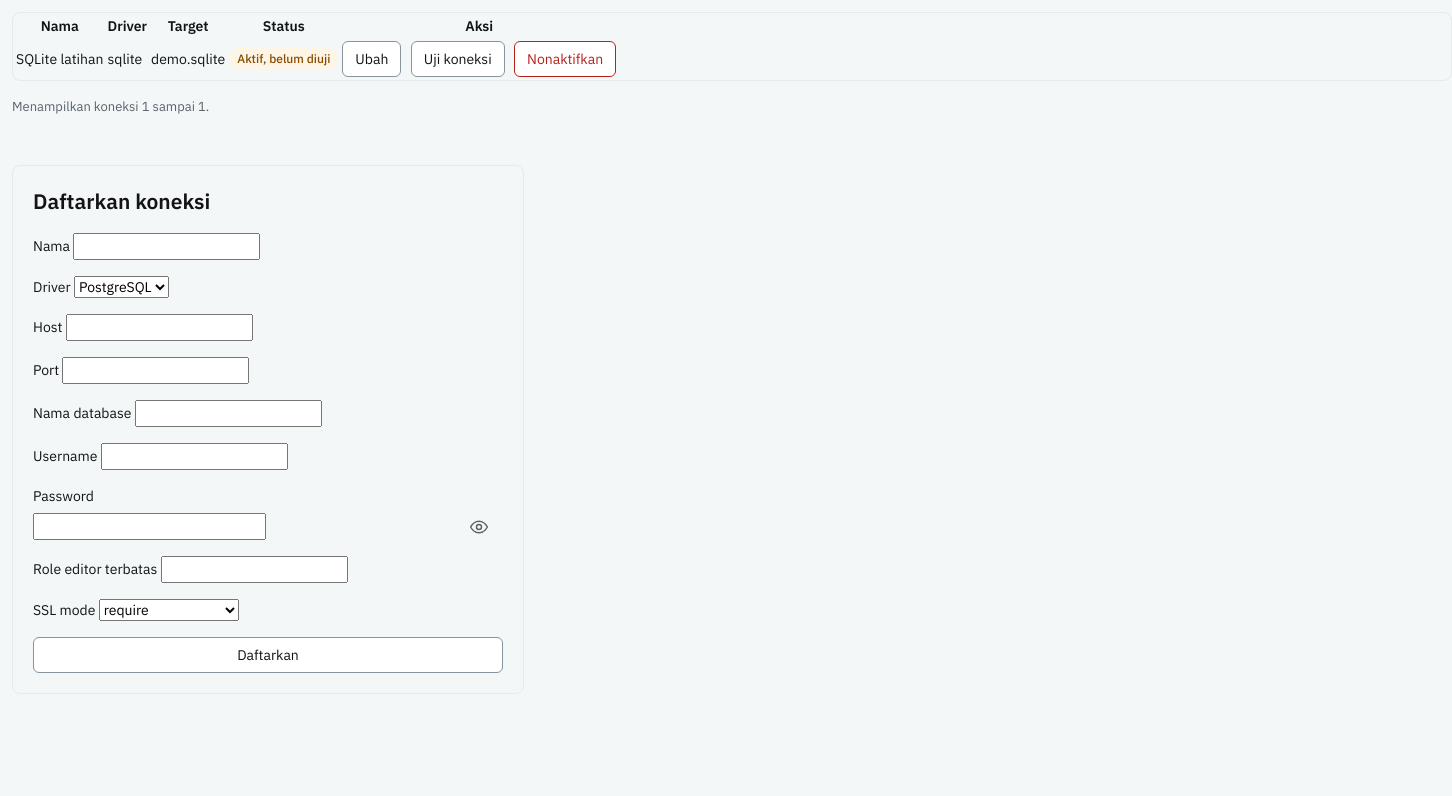
Test: ConnectionsPage › shows a revision conflict instead of overwriting
The image size is (1452, 796).
Expected: the text "SQLite latihan" is shown, x1=15 y1=40 x2=104 y2=78
Click the button "Ubah" at coordinates (372, 59), box x1=342 y1=41 x2=401 y2=77
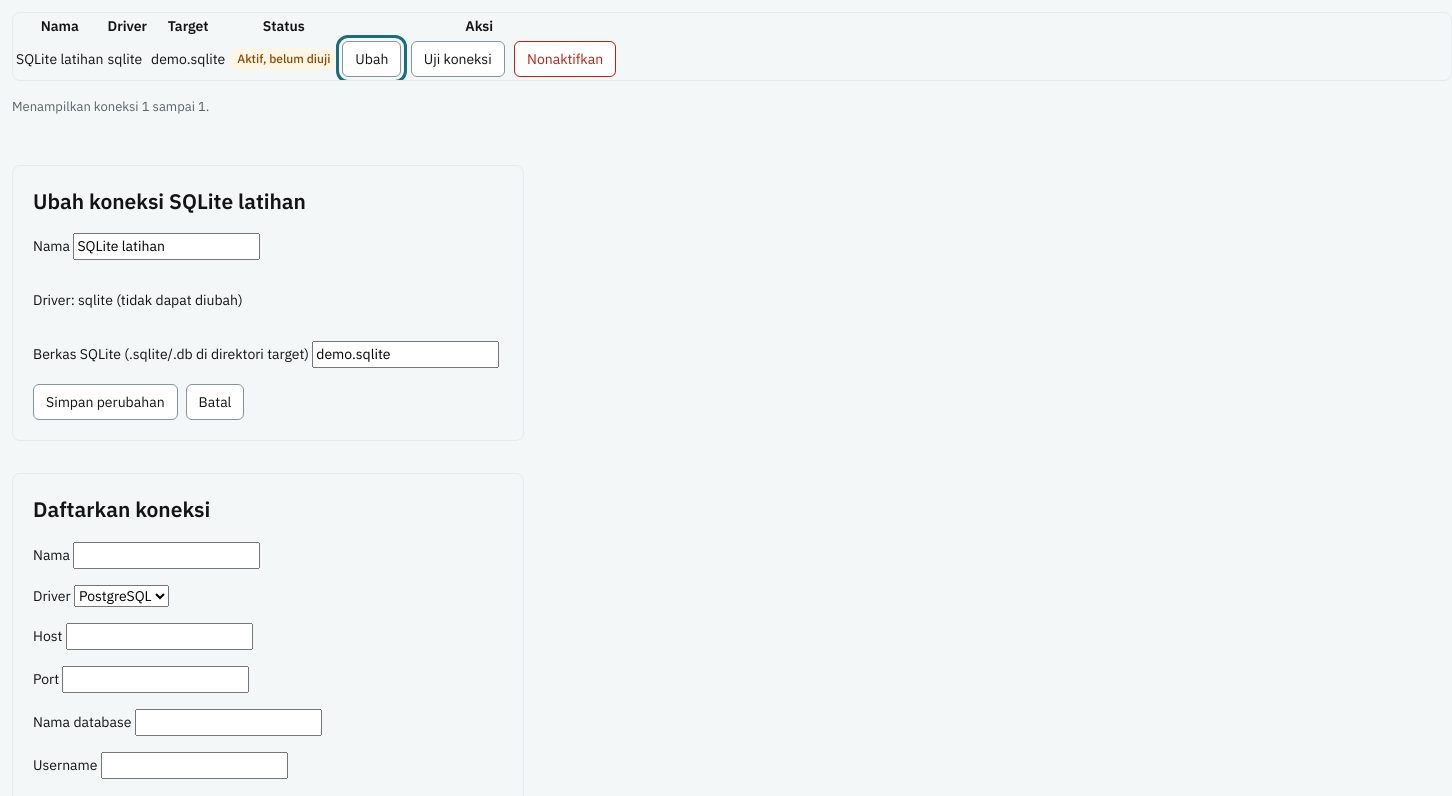
Replace the text in the field labelled "Berkas SQLite (.sqlite/.db di direktori target)" with "lain.sqlite" at coordinates (406, 354), box x1=312 y1=341 x2=499 y2=368
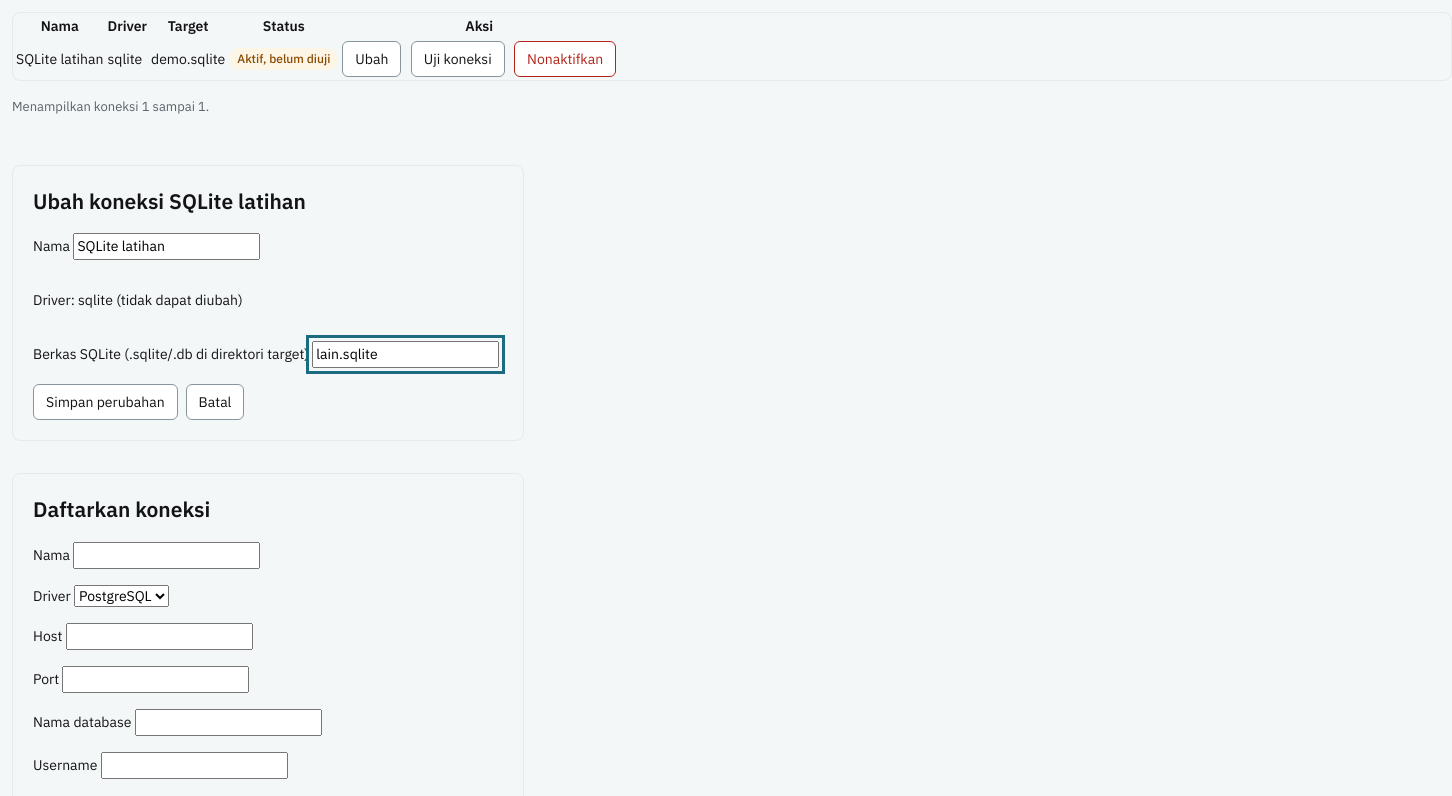
Click the button "Simpan perubahan" at coordinates (105, 402), box x1=33 y1=384 x2=178 y2=420
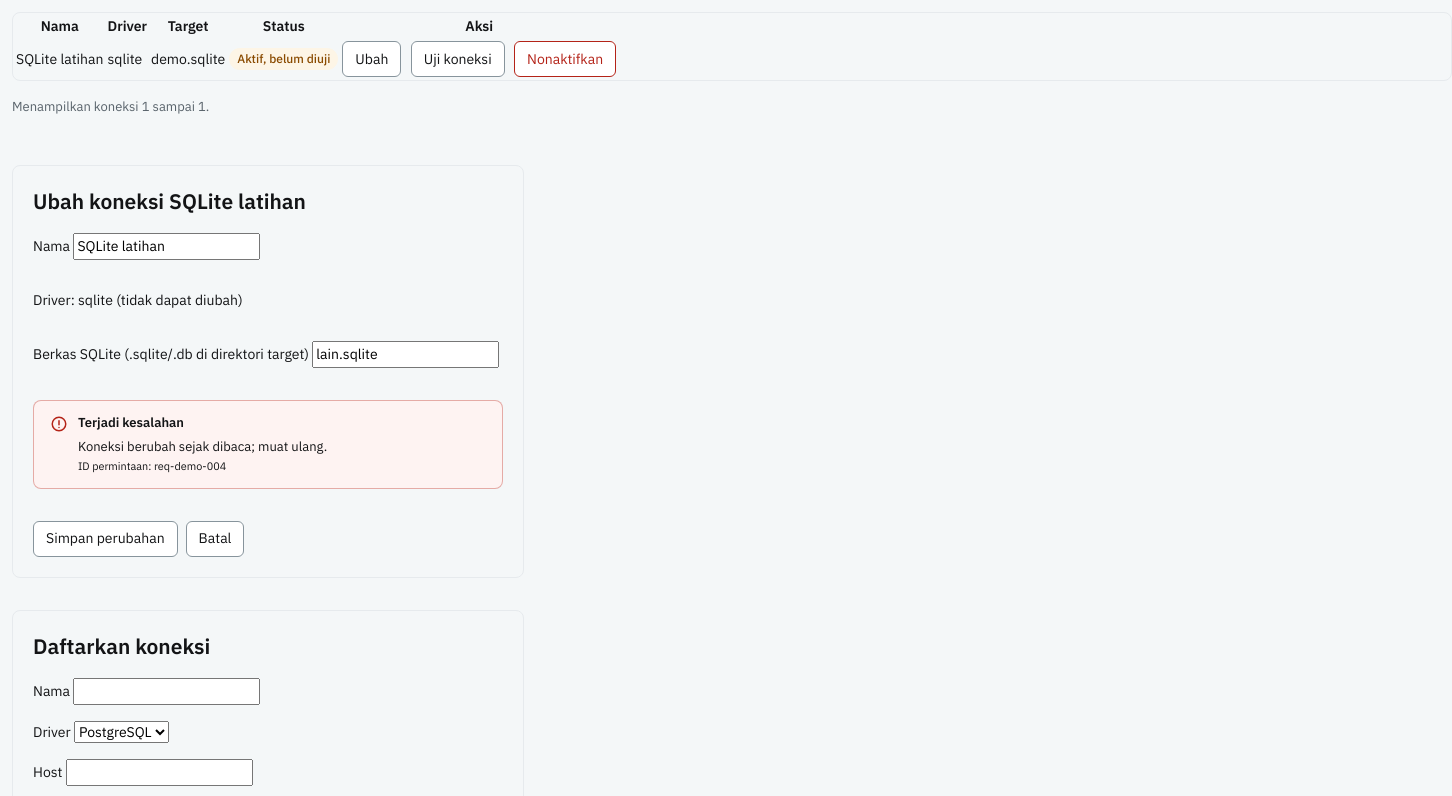
Result: the form "Ubah koneksi" is shown at x1=12 y1=164 x2=524 y2=578
Result: the text "Koneksi berubah sejak dibaca; muat ulang." is shown at x1=78 y1=438 x2=327 y2=454
